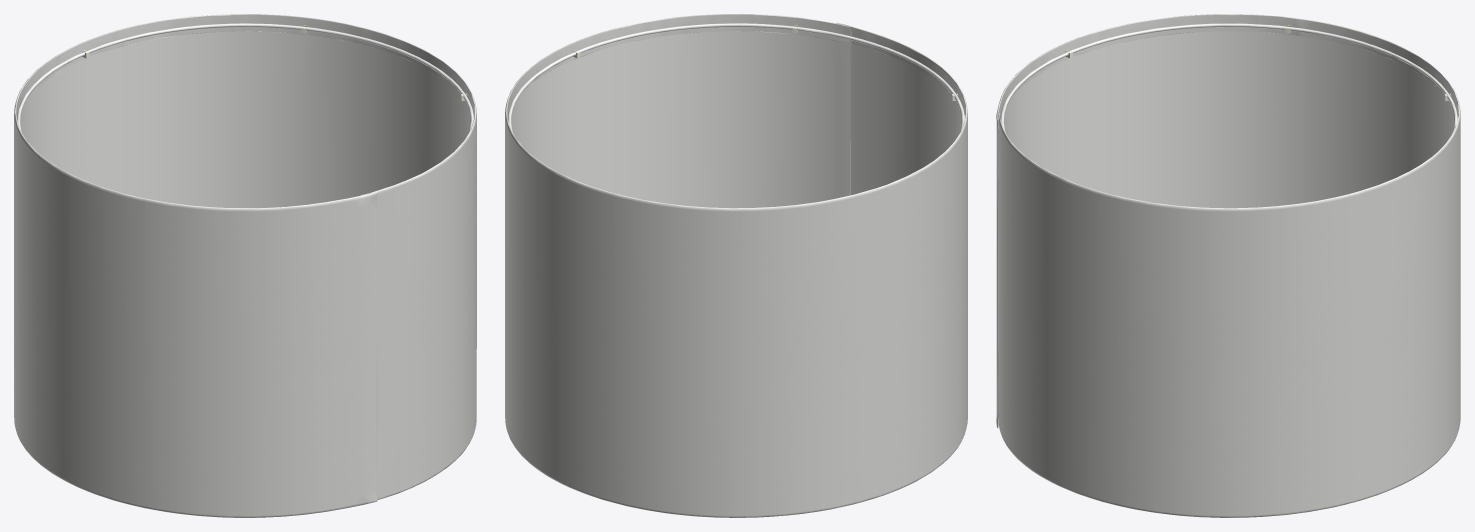
The model's file is 05 - RINGSTA Lamp shade - white 42 cm.glb.
3 views of the same model, side by side, from view 1: azimuth 30°, elevation 25°; view 2: azimuth 150°, elevation 25°; view 3: azimuth 270°, elevation 25° (orthographic).
Visible parts, largest first — view 1: model; view 2: model; view 3: model.
Part boxes in pixels (x1,y1,x2,y2): model: [14, 14, 476, 517]; model: [505, 14, 967, 517]; model: [996, 14, 1460, 517].
Bounding box in the file's own units: 0.4198 × 0.31 × 0.4212.
1 material, 1 textured.
